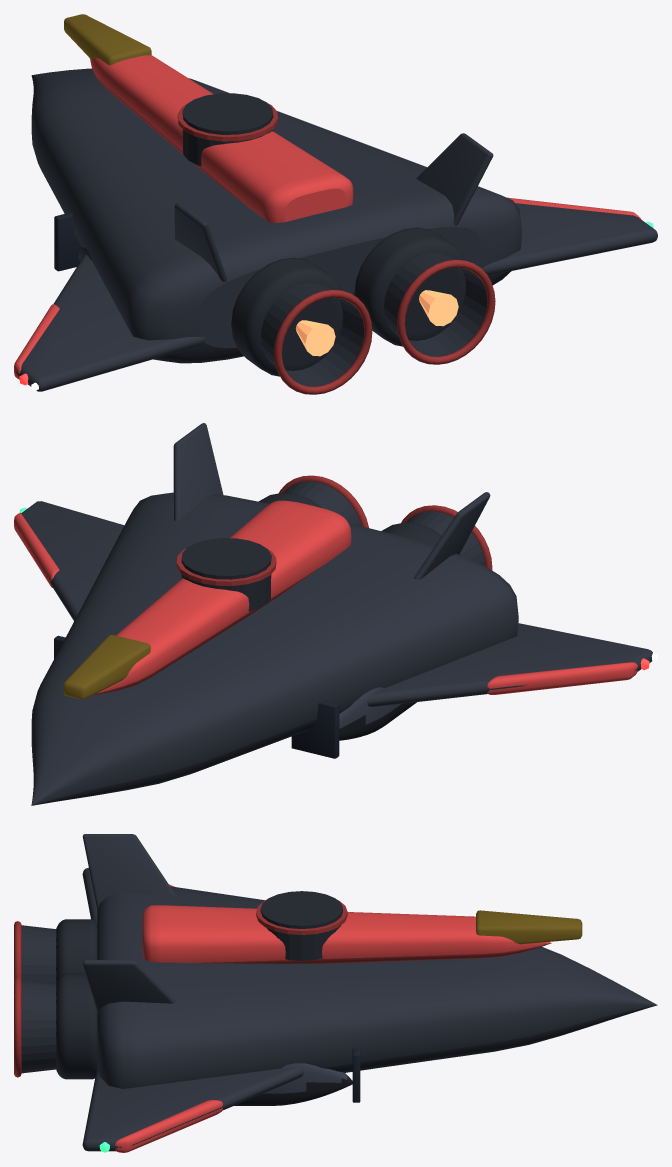
File: corsair.glb
The picture shows the model from 3 angles, top to bottom: view 1: azimuth 30°, elevation 25°; view 2: azimuth 150°, elevation 25°; view 3: azimuth 270°, elevation 25°; orthographic projection. The views are drawn at different scales.
Parts seen in each view (by area): view 1: corsair_mesh; view 2: corsair_mesh; view 3: corsair_mesh.
Boxes of the visible parts, box(x1,y1,x2,y2) form: corsair_mesh: box(14, 14, 657, 394); corsair_mesh: box(14, 423, 652, 805); corsair_mesh: box(14, 834, 657, 1152).
Bounding box in the file's own units: 8.74 × 2.19 × 8.5.
